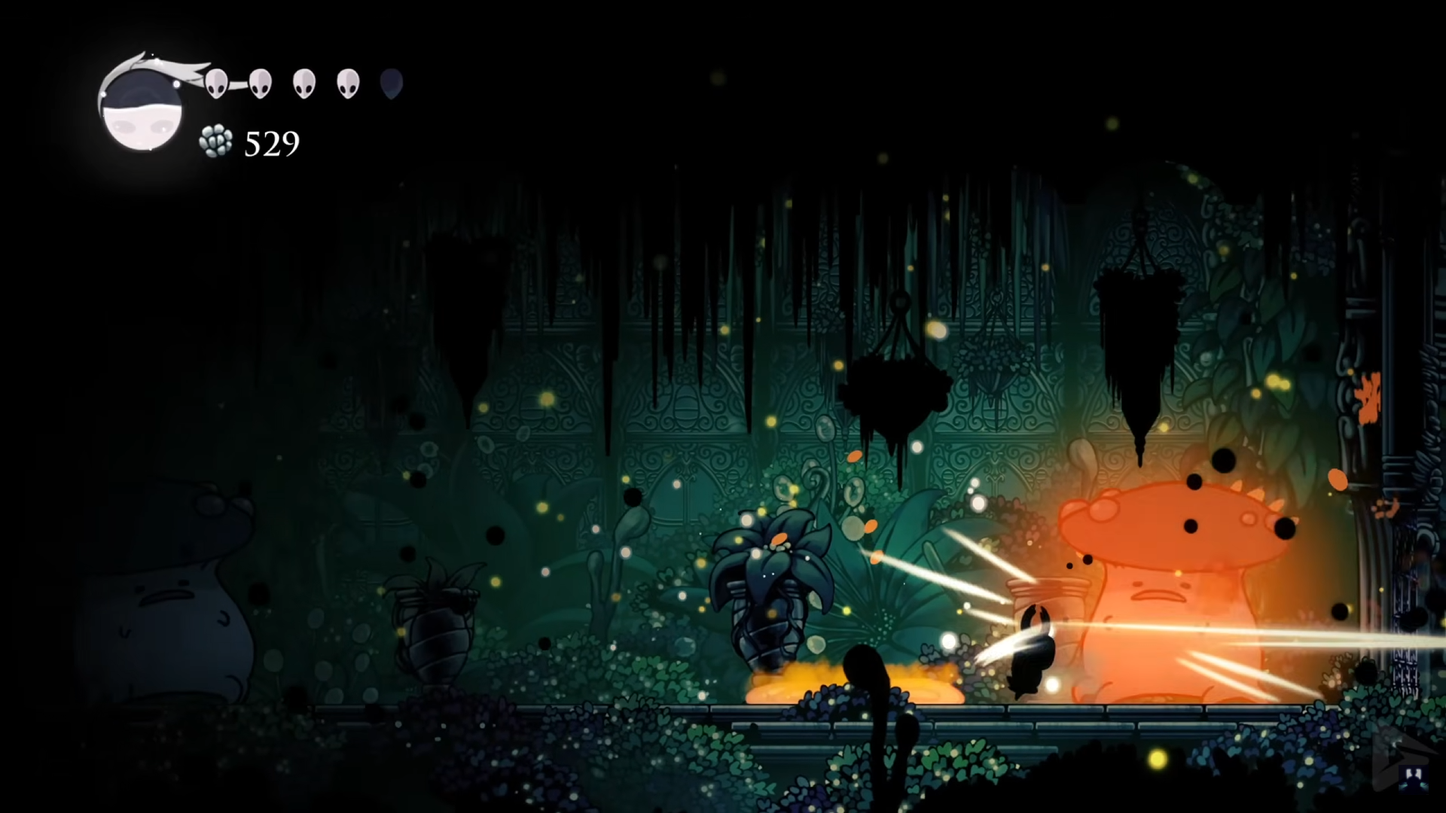HK: (1002, 603, 1058, 695)
